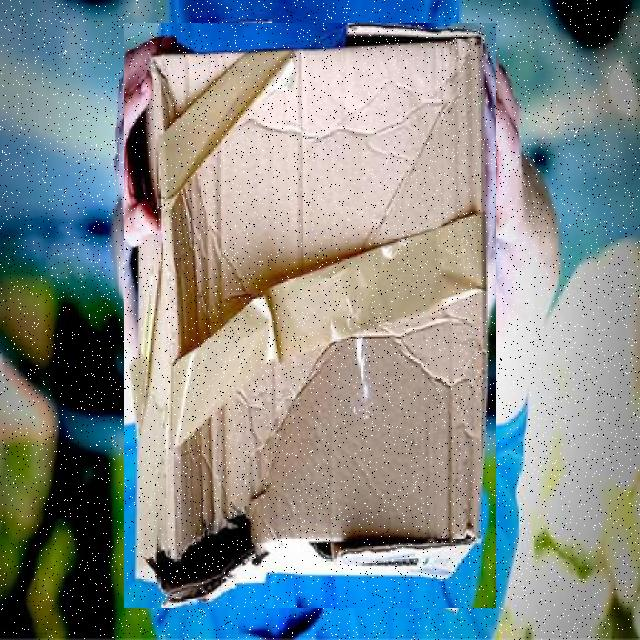defect: (124, 23, 496, 608)
